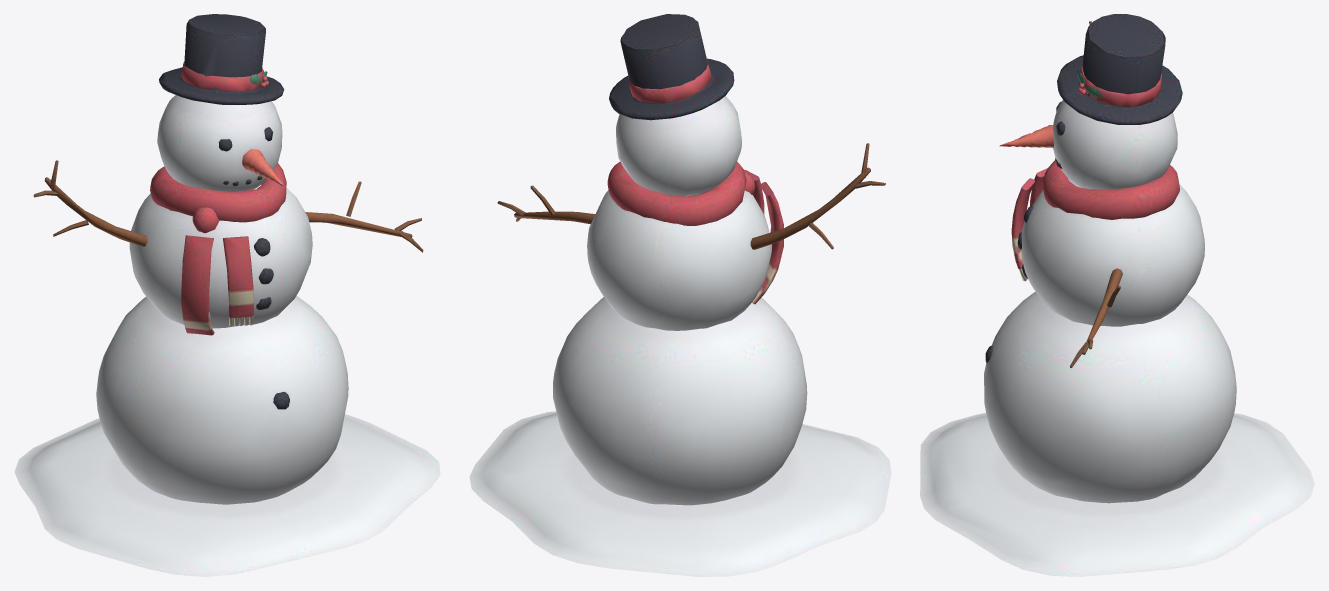
The model's file is snowman.glb.
3 renders of one model, left to right at view 1: azimuth 30°, elevation 25°; view 2: azimuth 150°, elevation 25°; view 3: azimuth 270°, elevation 25°, orthographic.
Parts seen in each view (by area): view 1: snowman_body; view 2: snowman_body; view 3: snowman_body.
Boxes of the visible parts, box(x1,y1,x2,y2) form: snowman_body: box(14, 14, 440, 576); snowman_body: box(469, 14, 891, 576); snowman_body: box(920, 14, 1314, 576).
Size of the model in its own units: 1.41 by 1.61 by 1.24.
Materials: 1 (1 with a texture image).
